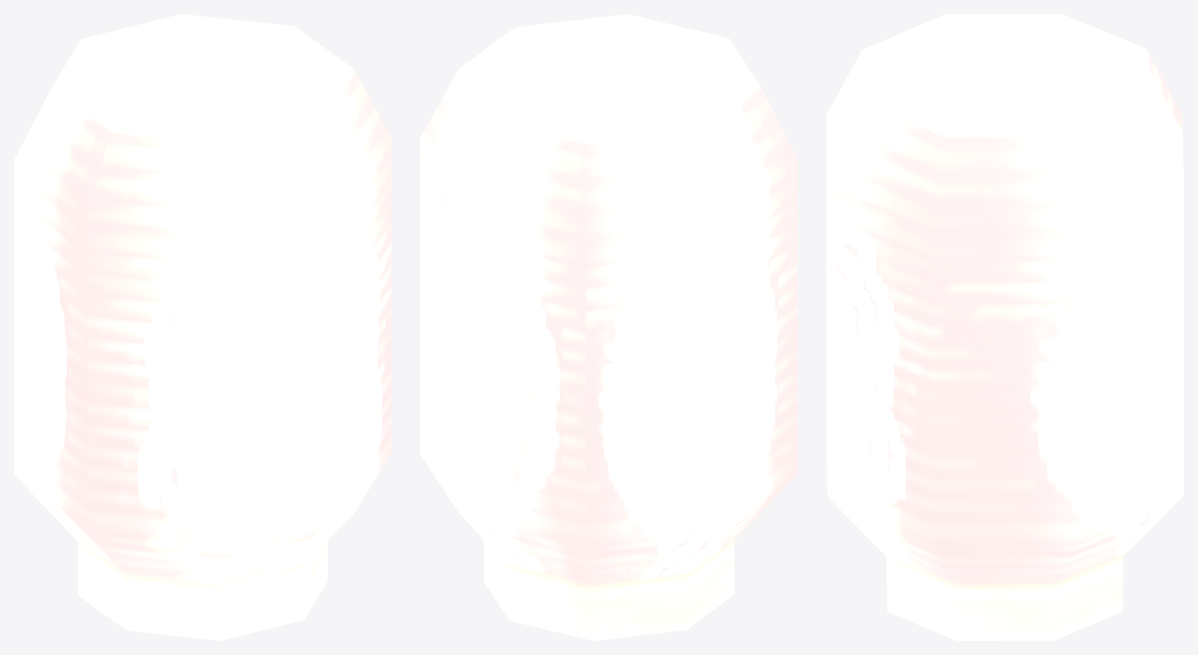
File: sfx_weapon_spirit_A0010.glb
The picture shows the model from 3 angles, left to right: view 1: azimuth 30°, elevation 25°; view 2: azimuth 150°, elevation 25°; view 3: azimuth 270°, elevation 25°; orthographic projection.
Parts seen in each view (by area): view 1: sfx_weapon_spirit_A0010_obj6; view 2: sfx_weapon_spirit_A0010_obj6; view 3: sfx_weapon_spirit_A0010_obj6.
Boxes of the visible parts, left/top/right/bottom form: sfx_weapon_spirit_A0010_obj6: left=14, top=14, right=391, bottom=640; sfx_weapon_spirit_A0010_obj6: left=420, top=14, right=797, bottom=640; sfx_weapon_spirit_A0010_obj6: left=826, top=14, right=1183, bottom=640.
Size of the model in its own units: 0.3666 by 0.5843 by 0.3666.
1 material, 1 textured.
